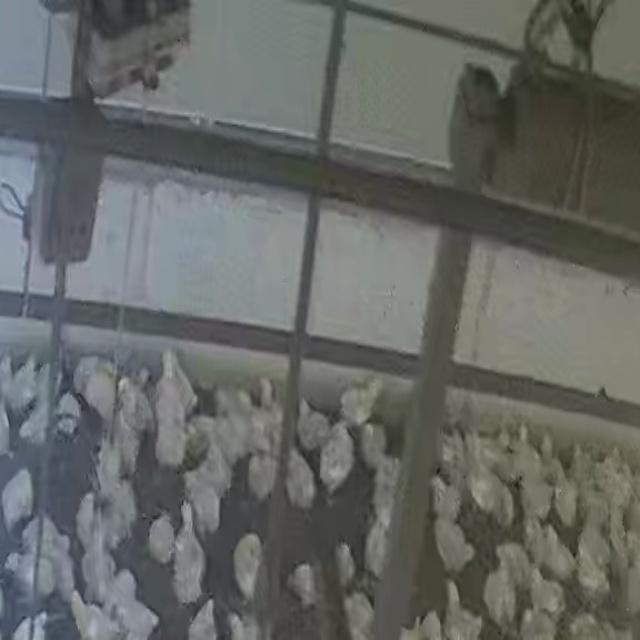chicken: (114, 368, 156, 471), (77, 507, 118, 605), (170, 506, 208, 606), (209, 389, 258, 466), (600, 510, 634, 612), (479, 550, 523, 628), (76, 356, 122, 428), (184, 466, 226, 538), (587, 447, 631, 515), (502, 426, 546, 494), (243, 387, 283, 461), (431, 514, 474, 577), (4, 551, 53, 604), (470, 476, 516, 531), (5, 353, 43, 419), (106, 466, 140, 539), (474, 425, 516, 484), (96, 427, 127, 506), (19, 512, 64, 566), (194, 437, 232, 498), (1, 465, 36, 531), (525, 567, 565, 622), (42, 544, 77, 606), (296, 398, 334, 454), (340, 378, 386, 424), (70, 592, 114, 640), (160, 352, 196, 410), (438, 423, 470, 488), (323, 424, 352, 495), (17, 392, 54, 447), (284, 447, 316, 509), (369, 448, 401, 510), (340, 588, 378, 640), (245, 448, 279, 506), (364, 518, 395, 580), (112, 598, 157, 640), (230, 537, 262, 595), (146, 508, 178, 566), (580, 487, 612, 545), (430, 470, 463, 526), (494, 540, 532, 588), (549, 468, 579, 526), (286, 559, 320, 610), (518, 469, 549, 524), (447, 584, 478, 639), (74, 489, 99, 551), (186, 597, 222, 640), (157, 413, 188, 462), (359, 425, 392, 470), (523, 514, 550, 567), (547, 527, 578, 573), (580, 545, 609, 594), (563, 609, 607, 640), (54, 391, 82, 436), (14, 609, 52, 640), (521, 608, 556, 640), (334, 542, 357, 590), (416, 609, 445, 640), (226, 610, 254, 640)
